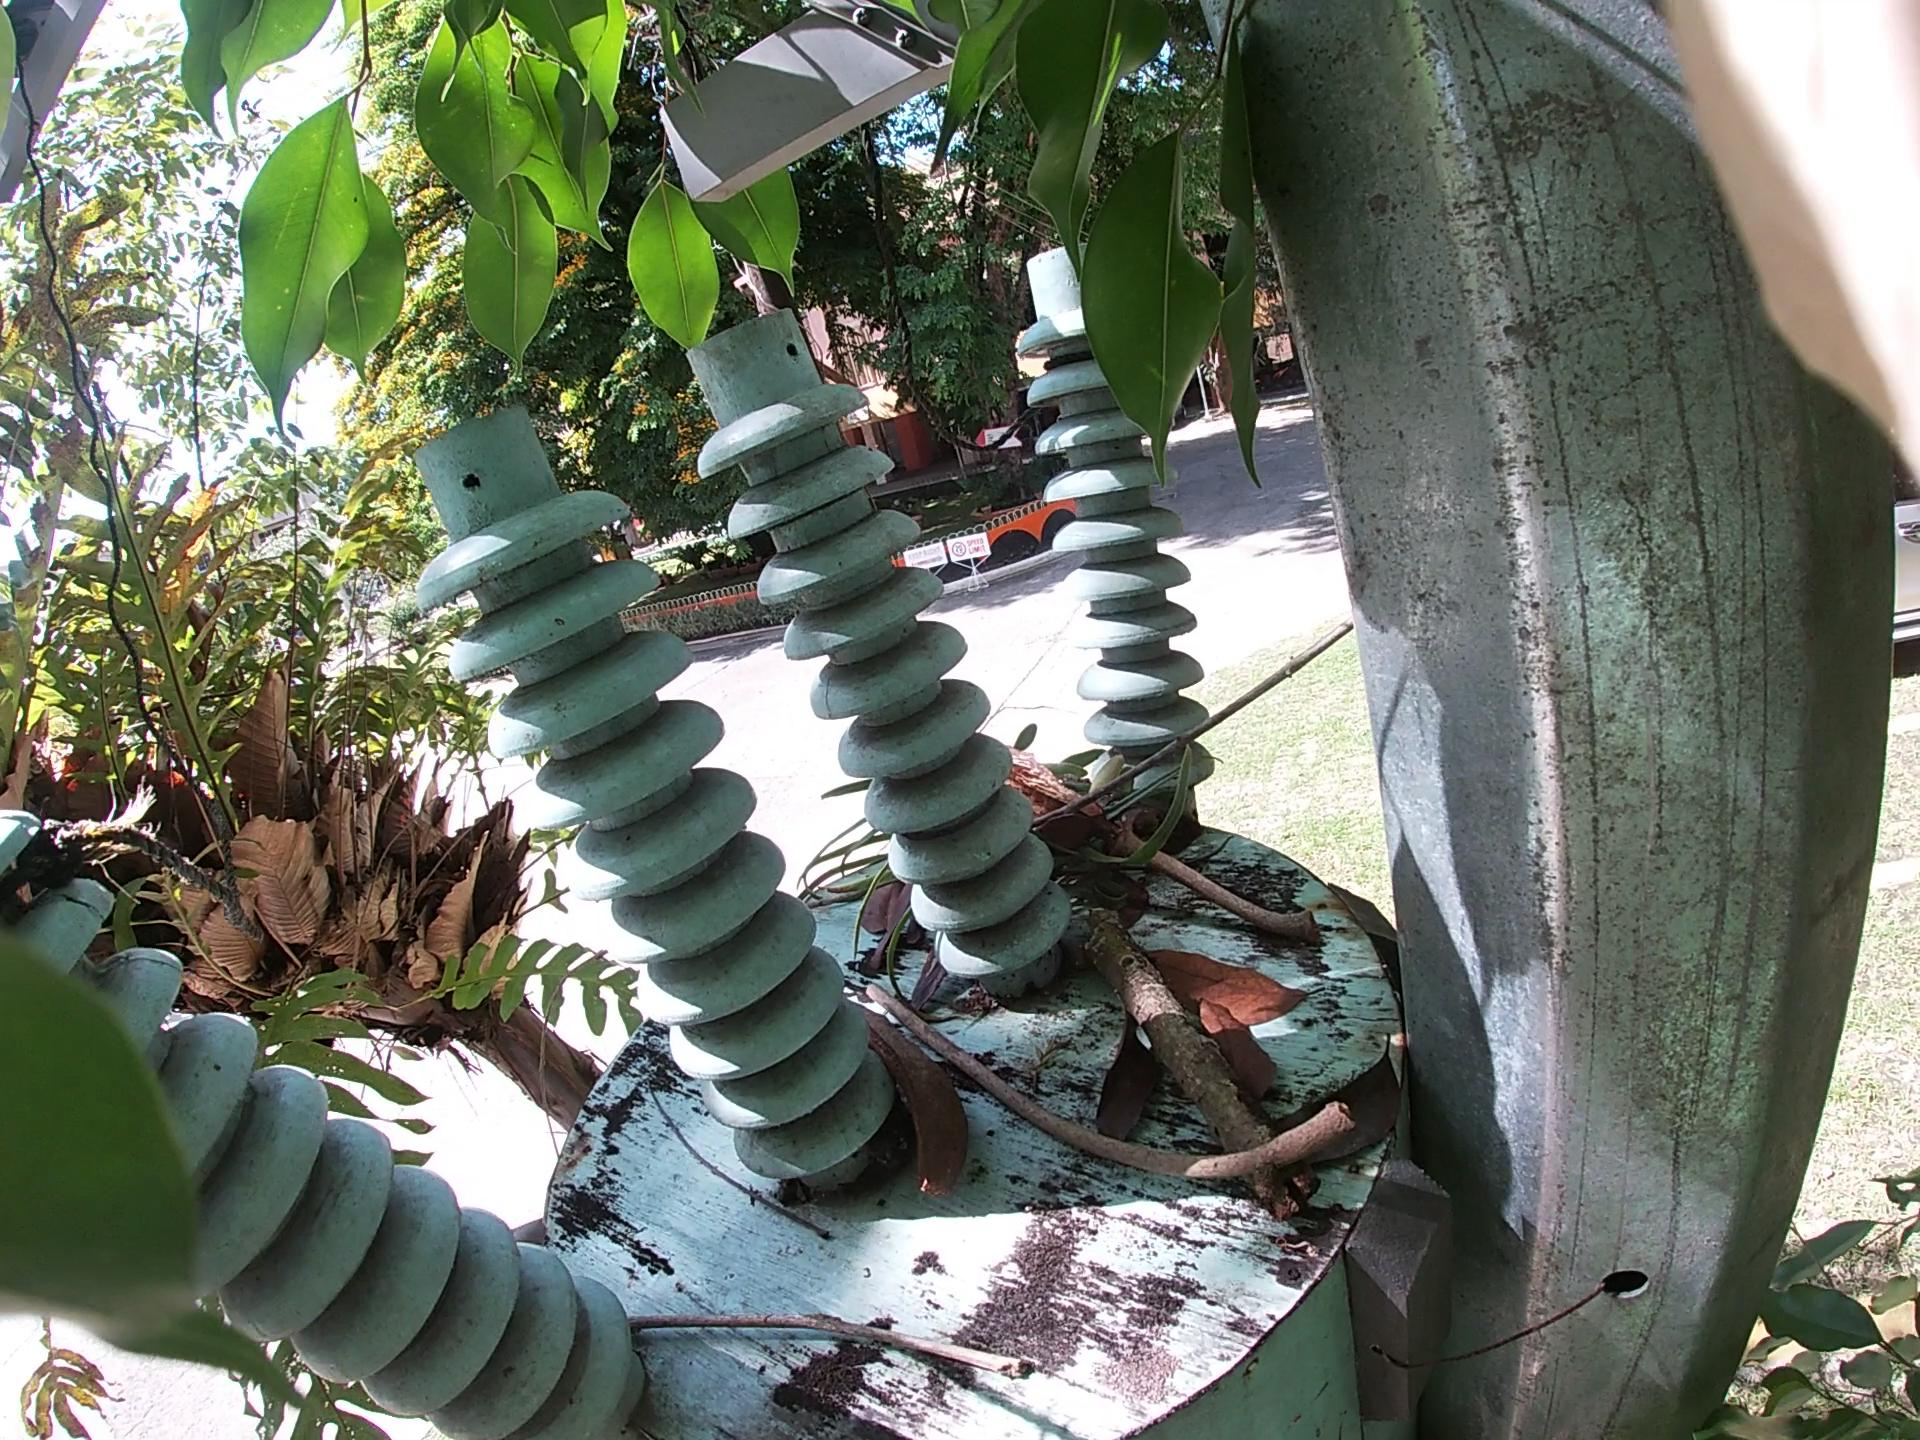branch with leaves: (981, 750, 1302, 1260)
leaf: (1108, 911, 1277, 1147)
tree branch: (838, 554, 1554, 882), (593, 1148, 1120, 1440), (893, 989, 1454, 1224)
